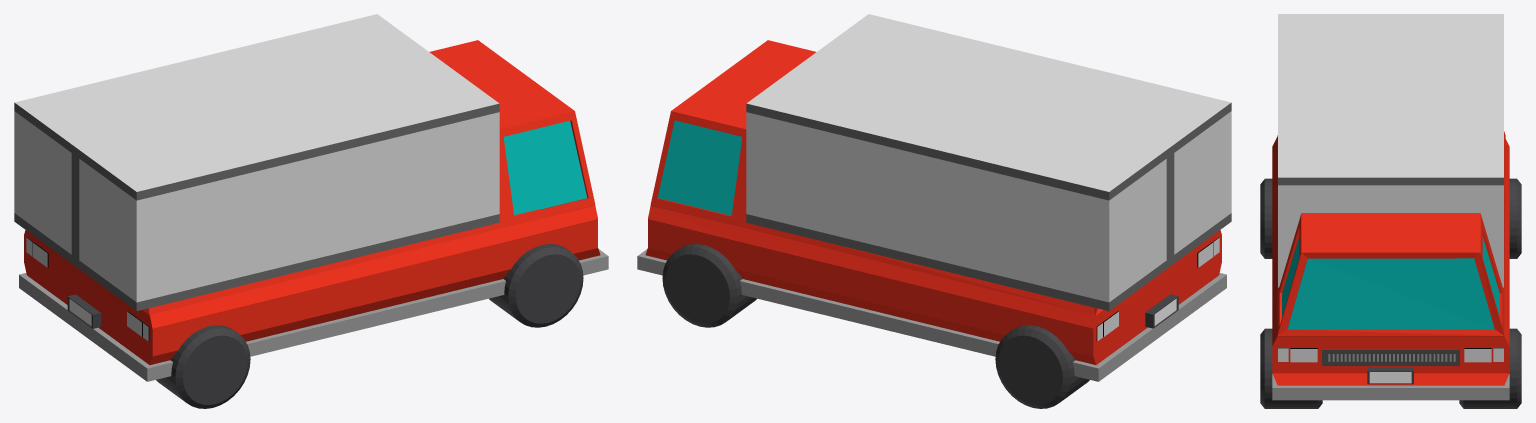
The model's file is CAMIONBONITO.fbx.
3 views of the same model, side by side, from view 1: azimuth 30°, elevation 25°; view 2: azimuth 150°, elevation 25°; view 3: azimuth 270°, elevation 25° (orthographic). The views are drawn at different scales.
Visible parts, largest first — view 1: Cube.002, Cube, Cylinder, Cylinder.001, Cube.003, Cube.008; view 2: Cube.002, Cube, Cylinder, Cylinder.001, Cube.003, Cube.008; view 3: Cube.002, Cube, Cylinder.001, Cube.004, Cylinder, Cube.003, Cube.006, Cube.001.
Part boxes in pixels (x1,y1,x2,y2): Cube.002: [14, 14, 499, 310]; Cube: [19, 40, 608, 381]; Cylinder: [156, 325, 250, 408]; Cylinder.001: [489, 244, 583, 327]; Cube.003: [67, 294, 101, 328]; Cube.008: [32, 242, 142, 336]; Cube.002: [746, 14, 1231, 310]; Cube: [637, 40, 1226, 381]; Cylinder: [995, 325, 1089, 408]; Cylinder.001: [662, 244, 756, 327]; Cube.003: [1145, 294, 1178, 328]; Cube.008: [1103, 242, 1213, 336]; Cube.002: [1278, 14, 1503, 287]; Cube: [1272, 131, 1509, 400]; Cylinder.001: [1260, 328, 1521, 408]; Cube.004: [1322, 349, 1459, 365]; Cylinder: [1260, 178, 1521, 258]; Cube.003: [1367, 367, 1413, 384]; Cube.006: [1290, 348, 1491, 362]; Cube.001: [1278, 348, 1503, 361].
Size of the model in its own units: 964 by 447 by 503.
